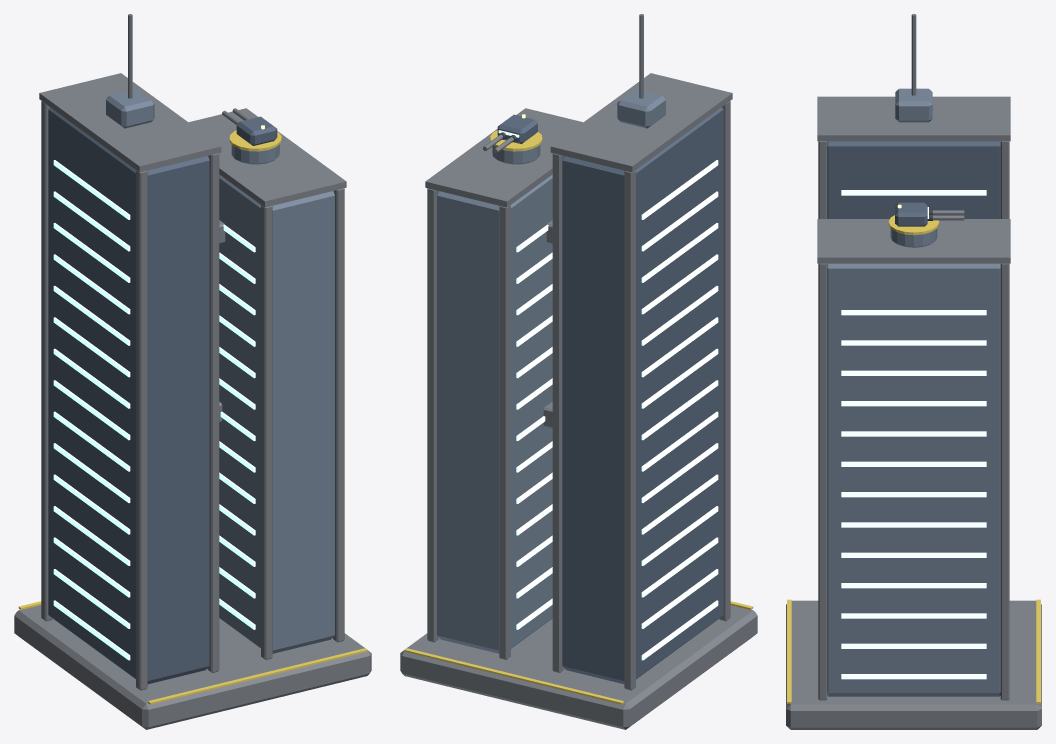
File: zone_high_2.glb
3 views of the same model, side by side, from view 1: azimuth 30°, elevation 25°; view 2: azimuth 150°, elevation 25°; view 3: azimuth 270°, elevation 25° (orthographic). The views are drawn at different scales.
Parts seen in each view (by area): view 1: zone_high_2, detail; view 2: zone_high_2, detail; view 3: zone_high_2, detail.
Part boxes in pixels (box(x1,y1,x2,y2)): zone_high_2: box(14, 73, 371, 729); detail: box(18, 14, 367, 704); zone_high_2: box(400, 73, 757, 729); detail: box(404, 14, 753, 704); zone_high_2: box(786, 88, 1041, 729); detail: box(787, 14, 1040, 703).
Bounding box in the file's own units: 27.5 × 75.14 × 27.5.
